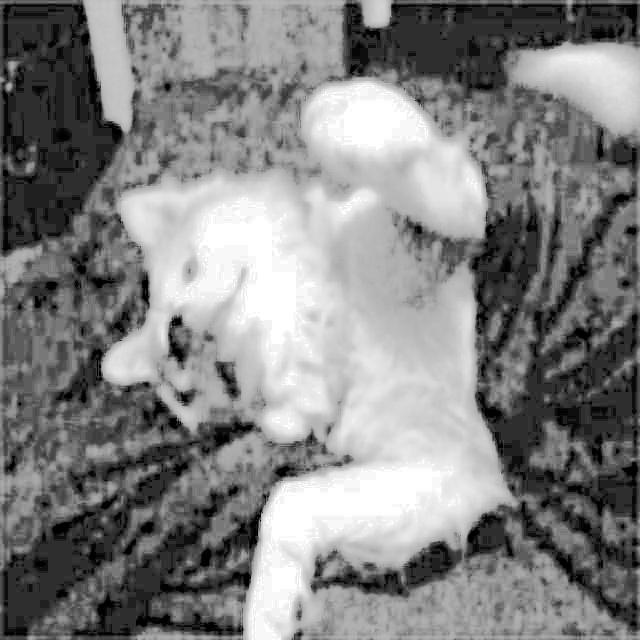Dog: (98, 69, 517, 640)
